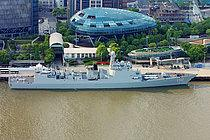MIL_Ship: (5, 49, 199, 90)
